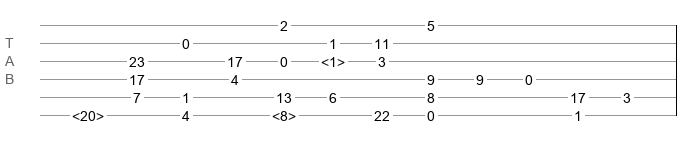0: (182, 36, 190, 46), (280, 54, 288, 64), (427, 108, 435, 118), (525, 72, 533, 82)
1: (182, 90, 190, 100), (329, 36, 337, 46), (574, 108, 582, 118)
11: (374, 36, 390, 46)
13: (276, 90, 292, 100)
17: (129, 72, 145, 82), (227, 54, 243, 64), (570, 90, 586, 100)
2: (280, 18, 288, 28)
22: (374, 108, 390, 118)
23: (129, 54, 145, 64)
3: (378, 54, 386, 64), (623, 90, 631, 100)
4: (182, 108, 190, 118), (231, 72, 239, 82)
5: (427, 18, 435, 28)
6: (329, 90, 337, 100)
7: (133, 90, 141, 100)
8: (427, 90, 435, 100)
9: (427, 72, 435, 82), (476, 72, 484, 82)
harmonic: (72, 108, 104, 118), (272, 108, 296, 118), (321, 54, 345, 64)
